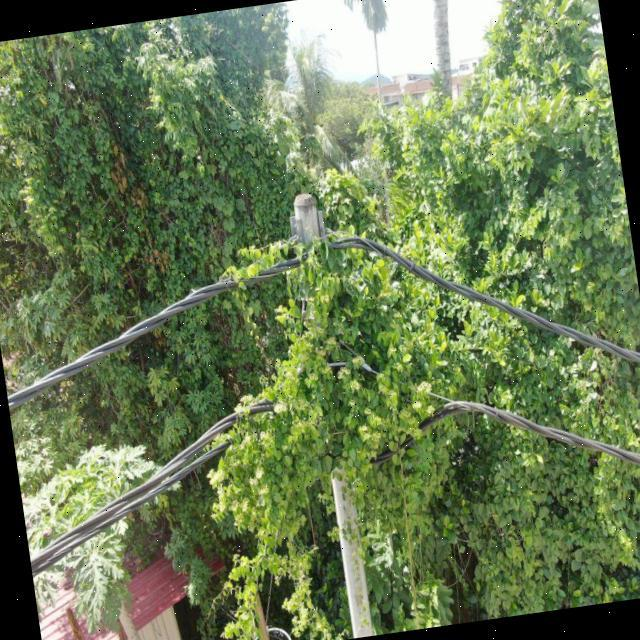critical vegetation: (180, 173, 487, 640)
